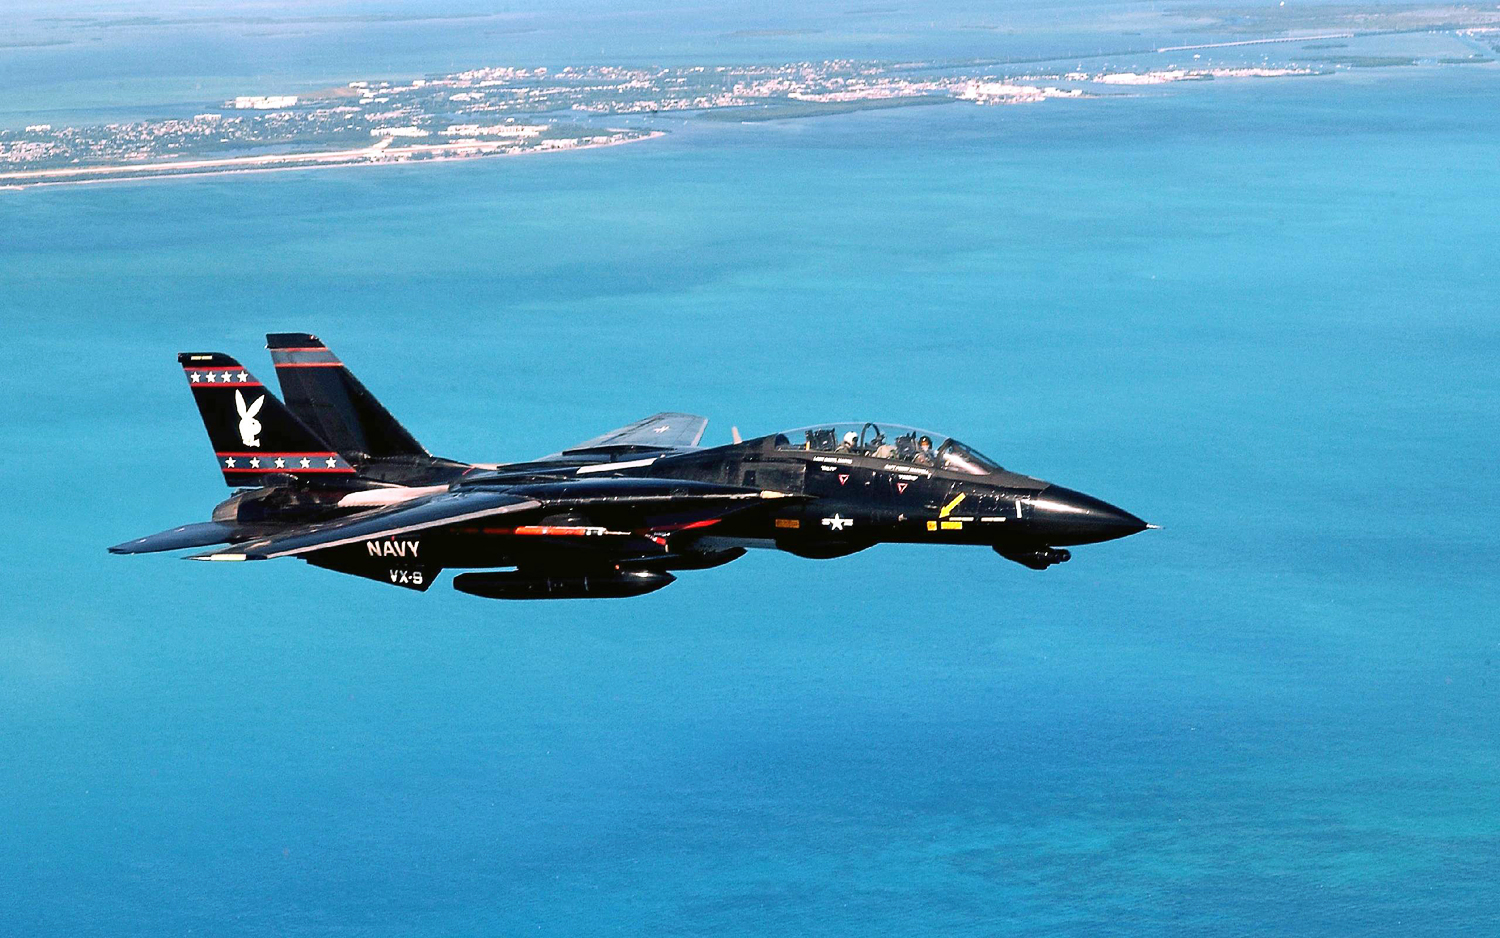F14: (106, 332, 1165, 602)
